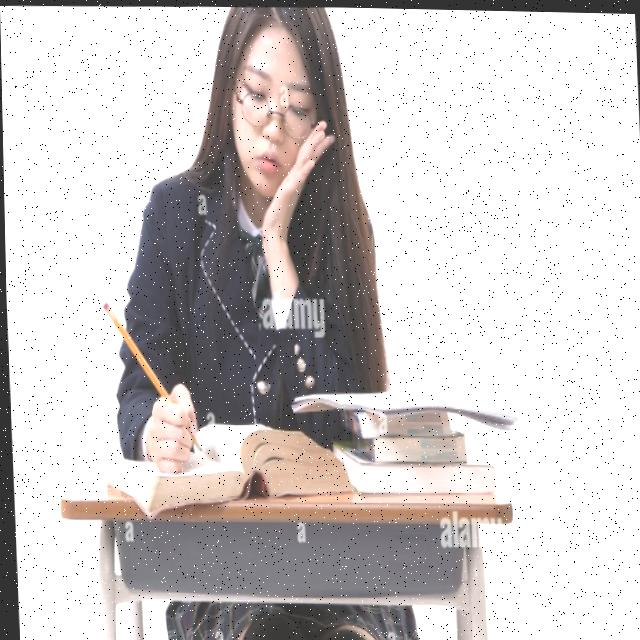studying-person: (89, 6, 568, 543)
